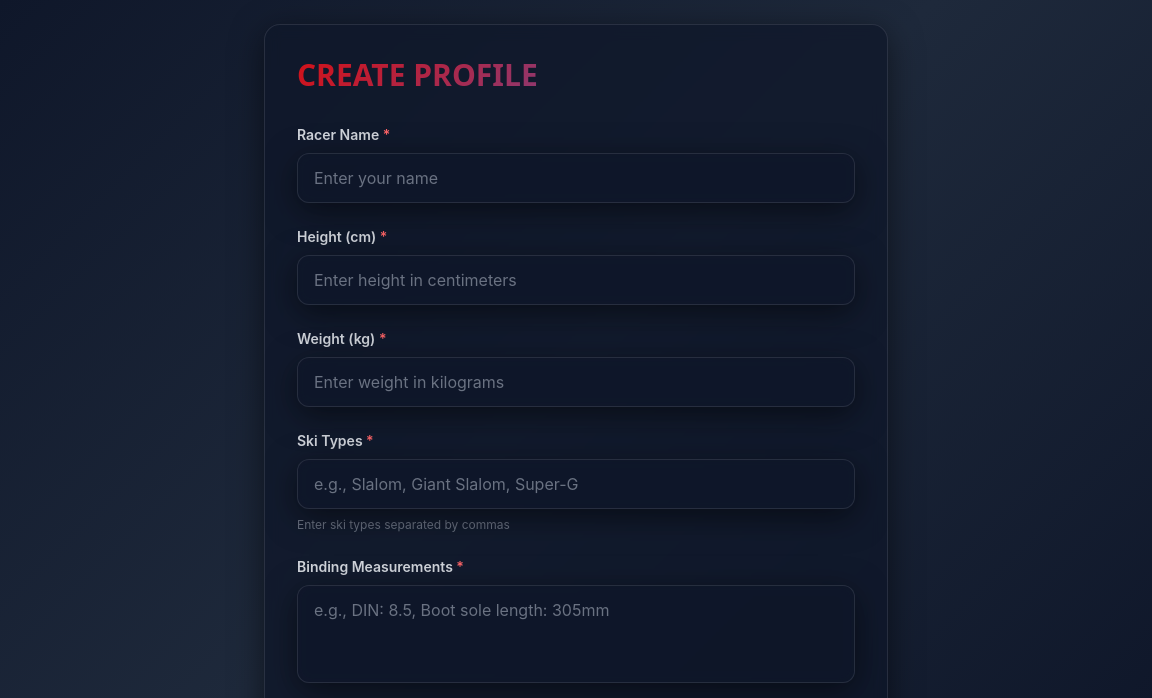
Test: ProfileForm › Validation › should show error when height is negative
The width and height of the screenshot is (1152, 698).
Type "-10" into the number field labelled "Height (cm) *" at (576, 280), box 297,255 -> 855,305
(page scrolled)
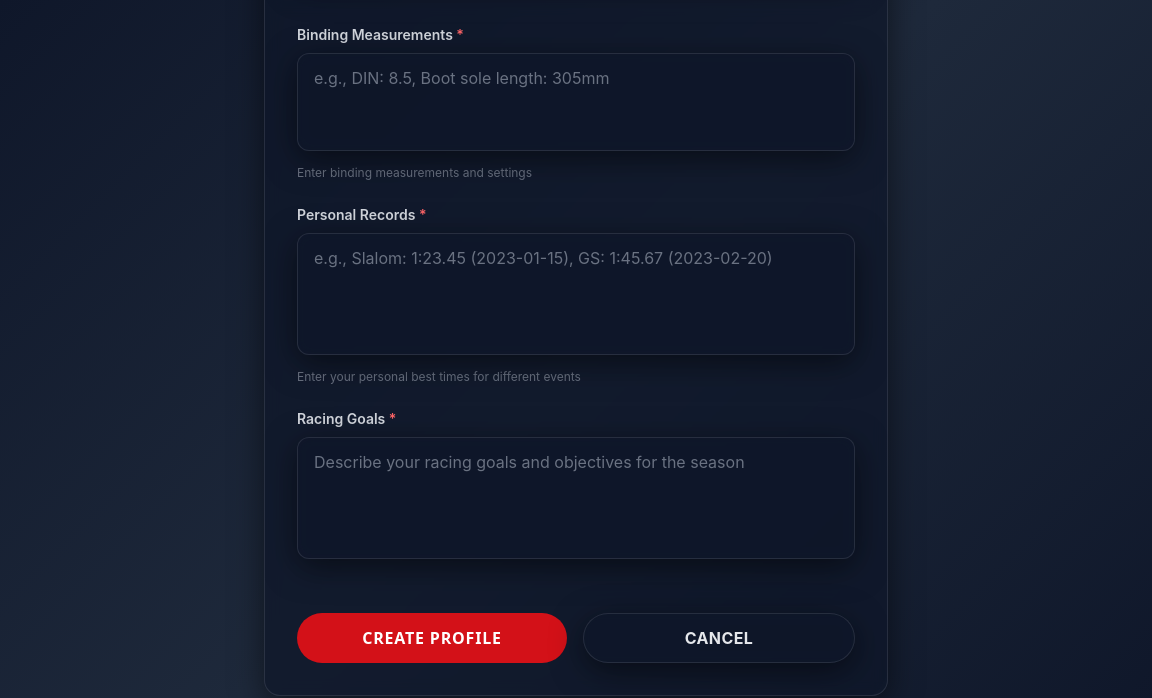
Click the button "Create Profile" at (432, 638), box 297,613 -> 567,663
(page scrolled)
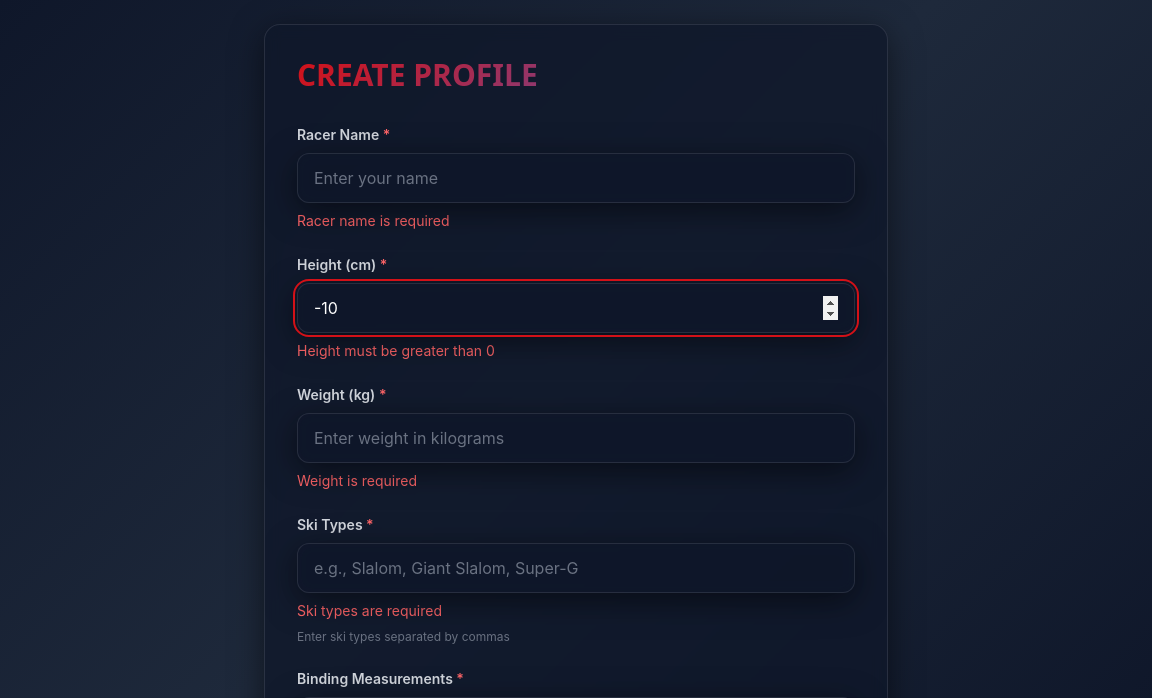
Now the text "Height must be greater than 0" is shown, box 297,342 -> 495,359
